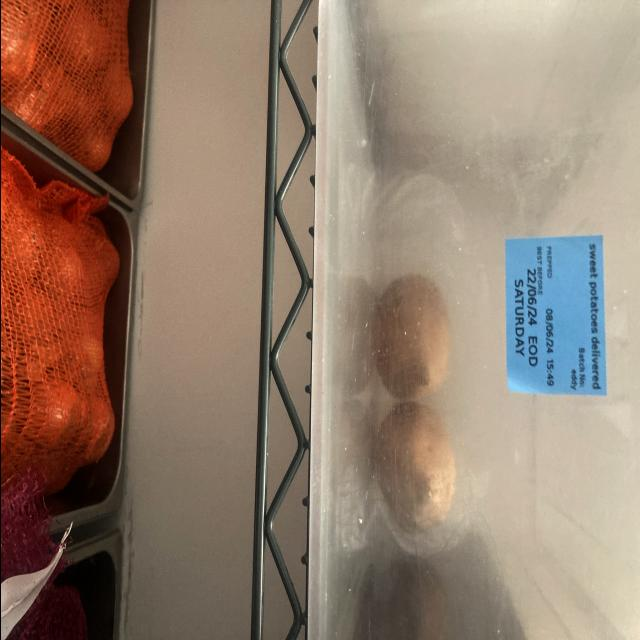product-labels: (506, 237, 605, 398)
